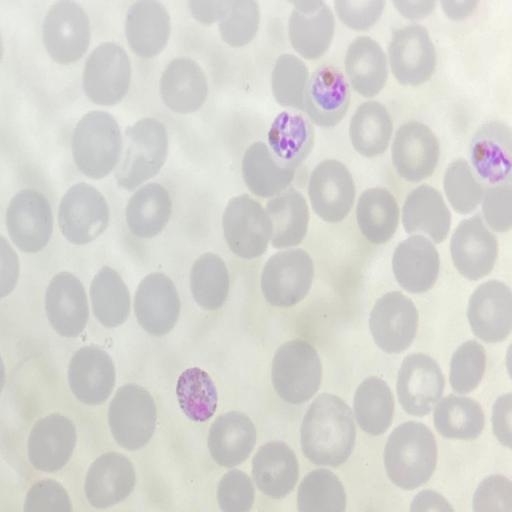Infected: (175, 366, 220, 421), (304, 64, 352, 111), (467, 140, 512, 182), (268, 109, 307, 155)
Uninfected: (299, 395, 355, 461), (116, 118, 169, 185), (71, 112, 124, 175), (383, 423, 436, 486), (308, 157, 358, 223), (57, 185, 111, 245), (270, 342, 321, 403), (106, 386, 157, 447), (81, 44, 132, 105), (43, 272, 90, 338), (5, 190, 54, 252), (259, 251, 313, 306), (220, 197, 270, 256), (368, 293, 418, 351), (133, 274, 181, 334), (387, 28, 437, 85), (42, 3, 91, 61), (67, 346, 115, 405), (395, 354, 443, 413), (87, 267, 131, 331), (466, 280, 512, 340), (393, 236, 441, 293), (449, 218, 495, 277), (158, 59, 209, 112), (84, 454, 134, 508), (27, 416, 76, 471), (241, 143, 292, 195), (400, 186, 449, 240), (250, 441, 299, 495), (391, 122, 439, 177), (124, 2, 172, 57), (263, 192, 310, 247), (286, 6, 335, 58), (343, 37, 388, 93), (125, 185, 172, 238), (351, 378, 396, 433), (356, 187, 400, 243), (207, 413, 255, 462), (270, 55, 312, 111), (189, 255, 231, 310), (349, 104, 394, 154), (433, 396, 481, 440), (448, 342, 488, 394), (216, 2, 261, 47), (296, 470, 347, 509), (443, 159, 482, 210), (215, 471, 256, 511), (23, 480, 72, 512), (334, 1, 383, 31), (491, 394, 512, 447)
